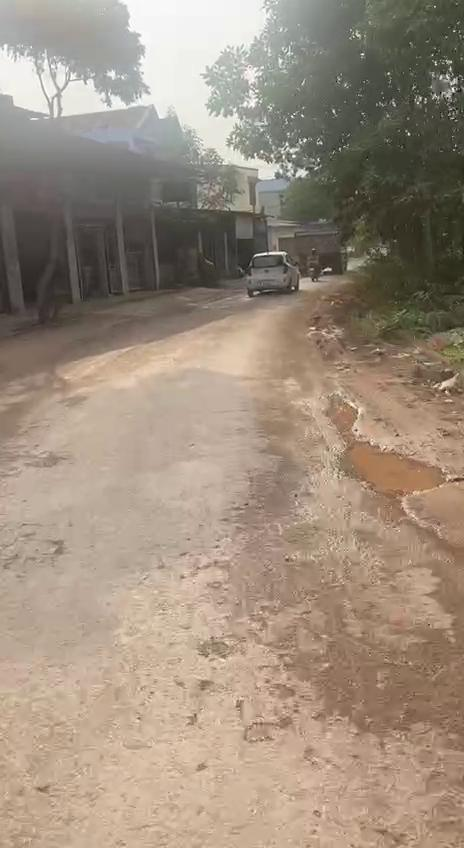pothole: (324, 394, 449, 502)
